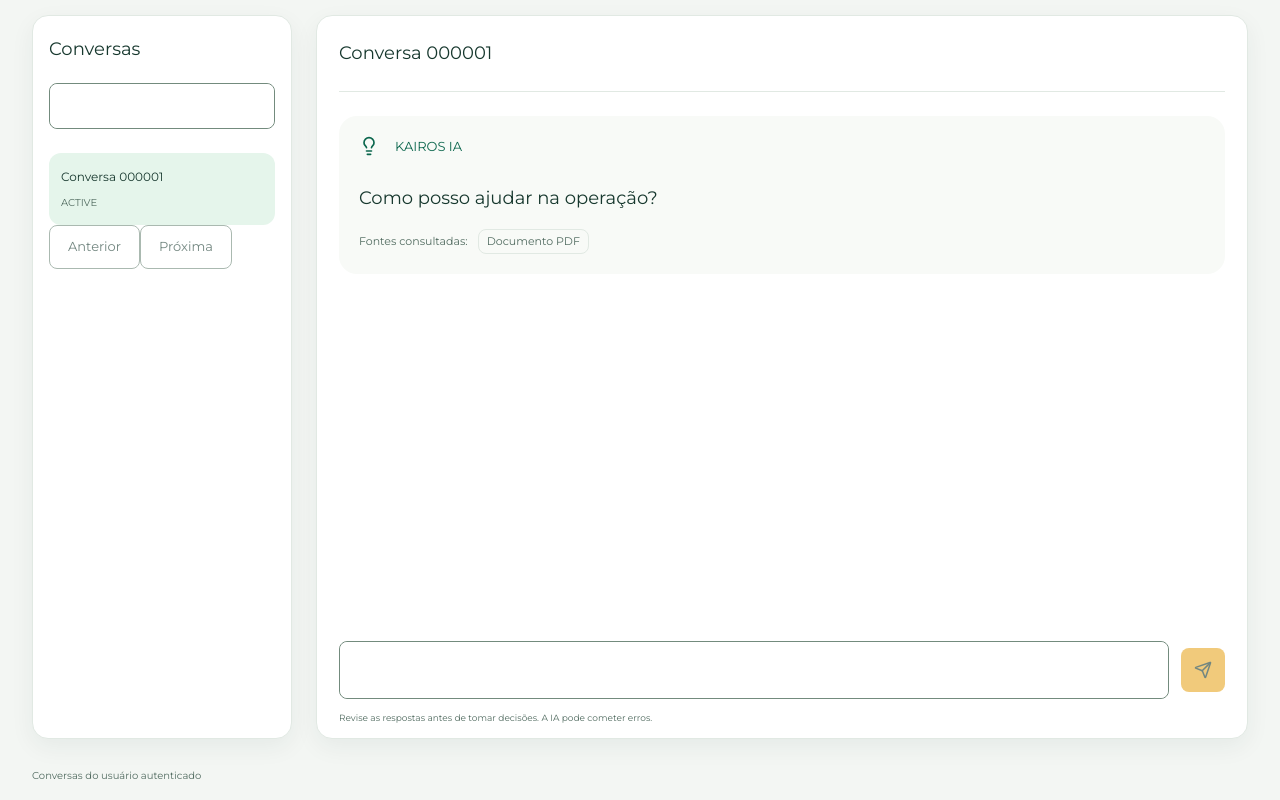
Test: does not retry an uncertain message and recovers history with GET
(page scrolled)
Expected: the element named "Mensagens da conversa" is shown, x1=339 y1=116 x2=1225 y2=282
Type "Minha pergunta" into the field named "Mensagem para KAIROS IA" at x=754, y=670, box x1=340 y1=642 x2=1168 y2=698
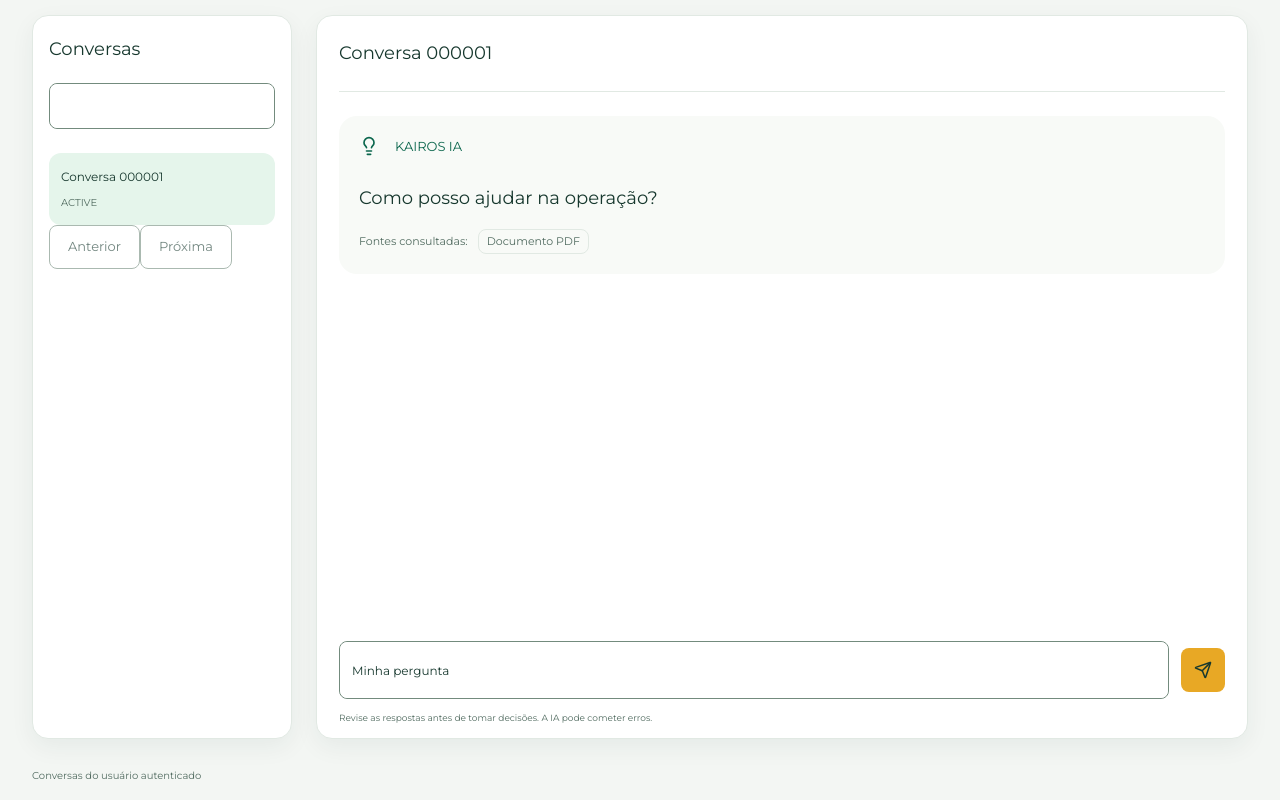
Click the button named "Enviar mensagem" at x=1203, y=670, box x1=1181 y1=648 x2=1225 y2=692
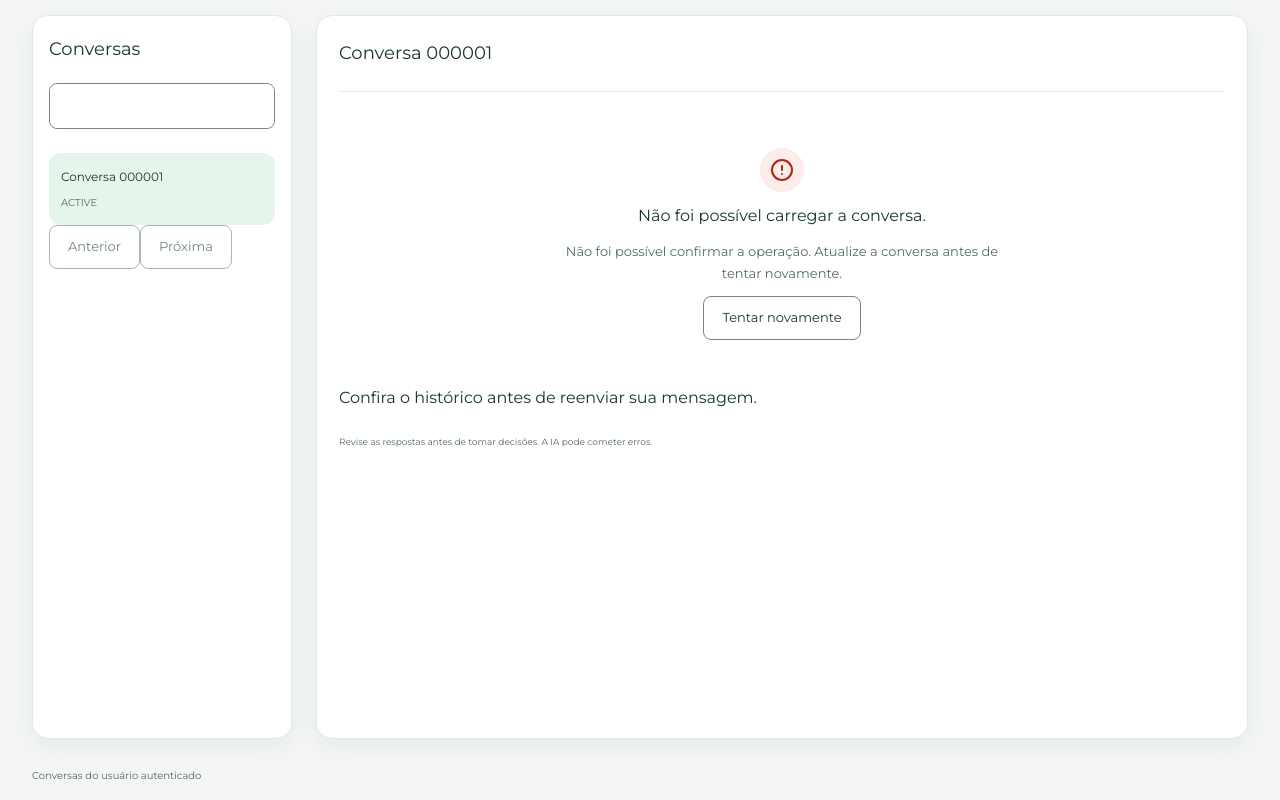
Now the text "Não foi possível carregar a conversa." is shown, box x1=638 y1=204 x2=926 y2=228
Click the button "Tentar novamente" at x=782, y=318, box x1=703 y1=296 x2=861 y2=340
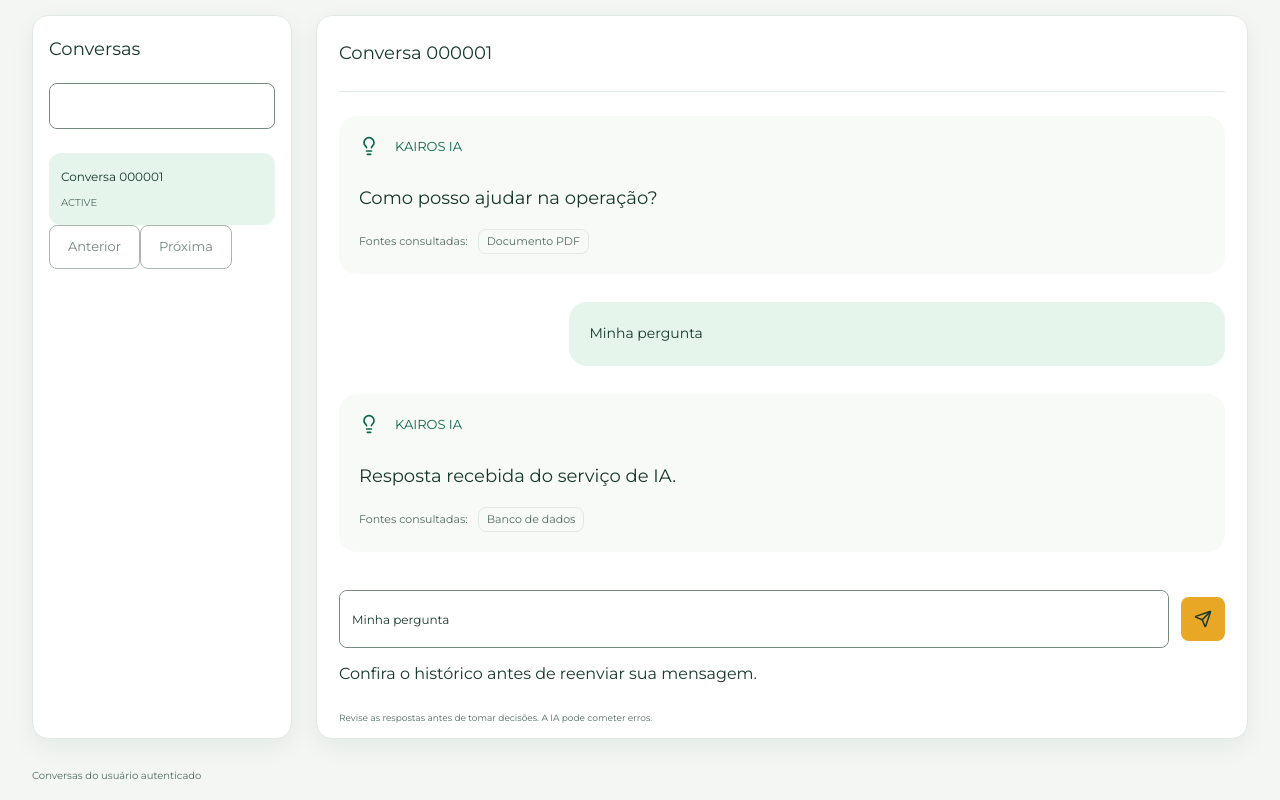
Now the text "Minha pergunta" is shown, box x1=589 y1=324 x2=703 y2=342
